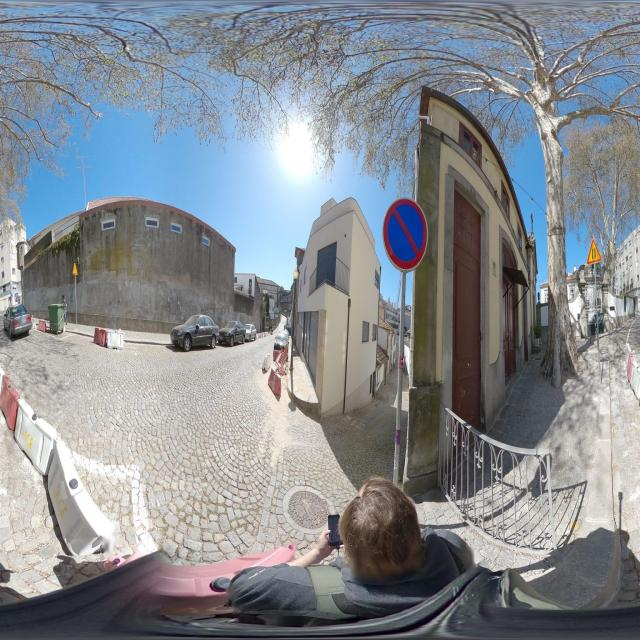forb_stopping: (383, 198, 429, 274)
